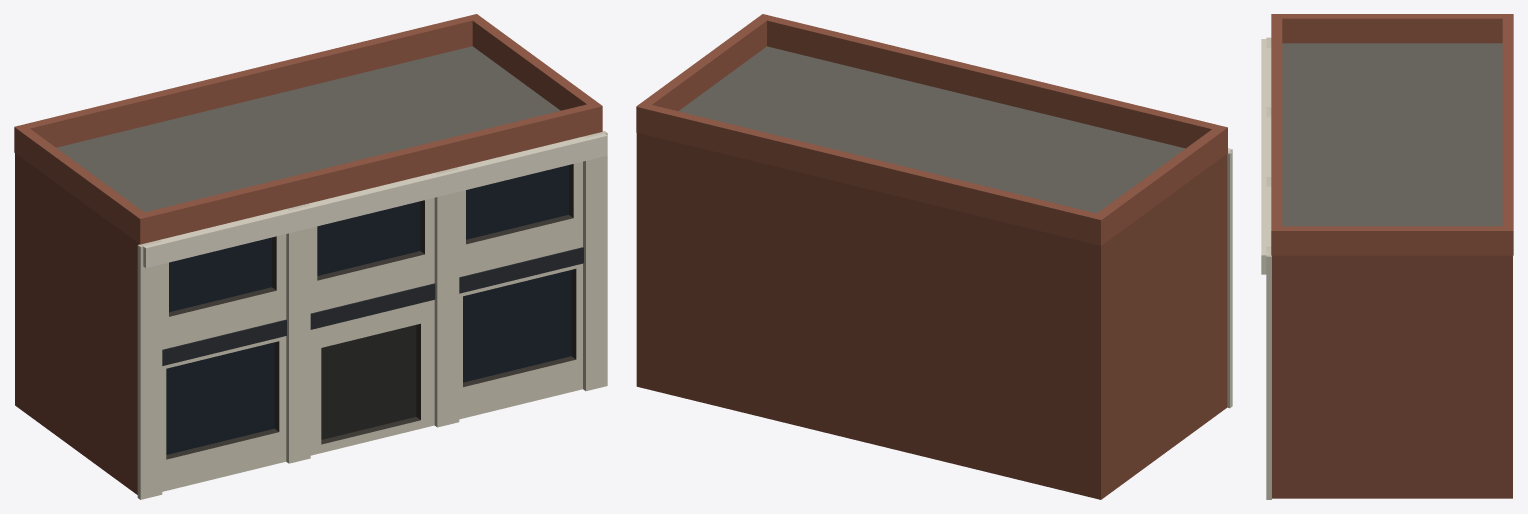
File: bank-1913-b14007.glb
3 renders of one model, left to right at view 1: azimuth 30°, elevation 25°; view 2: azimuth 150°, elevation 25°; view 3: azimuth 270°, elevation 25°, orthographic. The views are drawn at different scales.
Visible parts, largest first — view 1: kit-bank-1913-b14007; view 2: kit-bank-1913-b14007; view 3: kit-bank-1913-b14007.
Boxes of the visible parts, box(x1,y1,x2,y2) form: kit-bank-1913-b14007: box(14, 14, 607, 499); kit-bank-1913-b14007: box(636, 14, 1232, 499); kit-bank-1913-b14007: box(1261, 14, 1513, 499).
Size of the model in its own units: 17.2 by 9.8 by 8.37.
